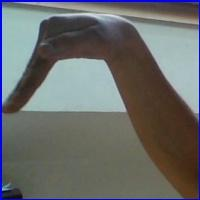del: (9, 13, 145, 123)
